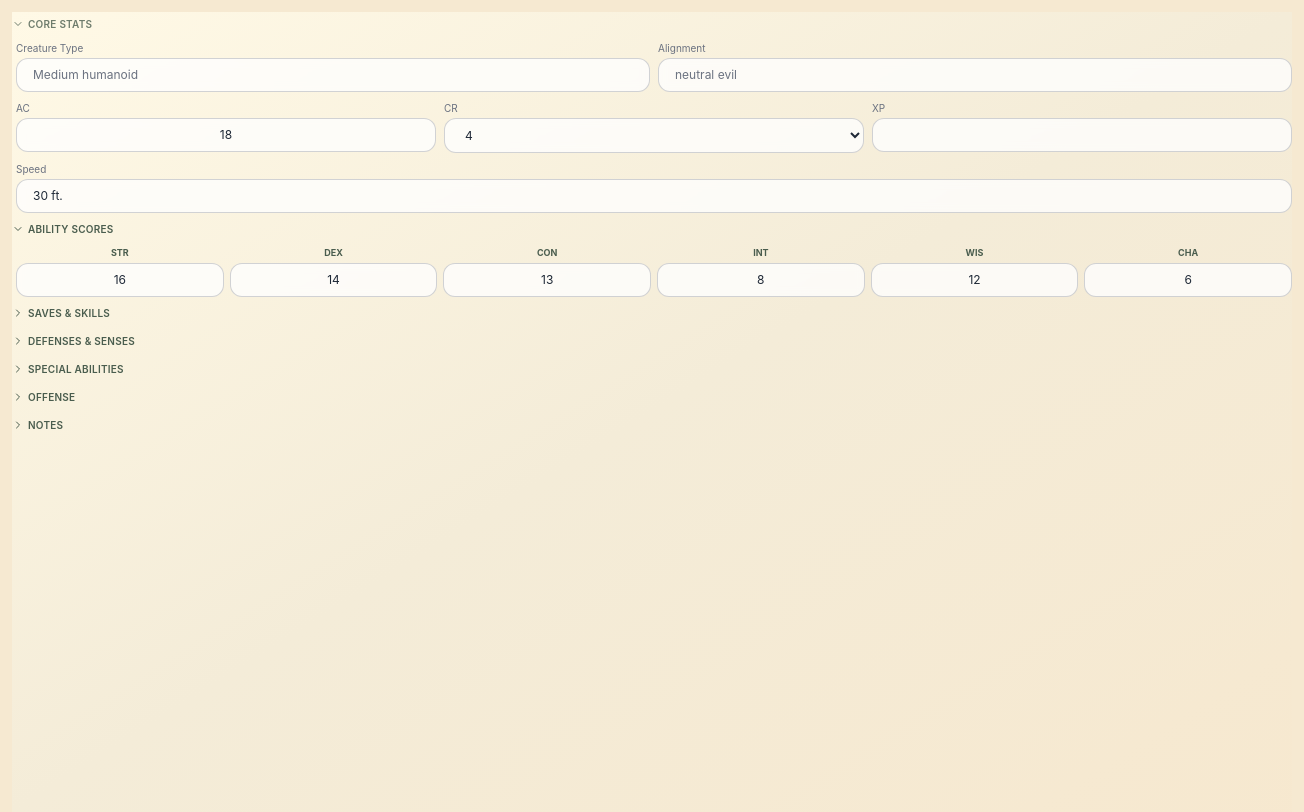
Test: PF1e NPC stat blocks › edits printed PF1 save and skill totals without 5e action sections
What coordinates should you click on to do the following:
click the button "Saves & Skills"
I would click on:
 (69, 313)
Its box is [12,301,1292,325].
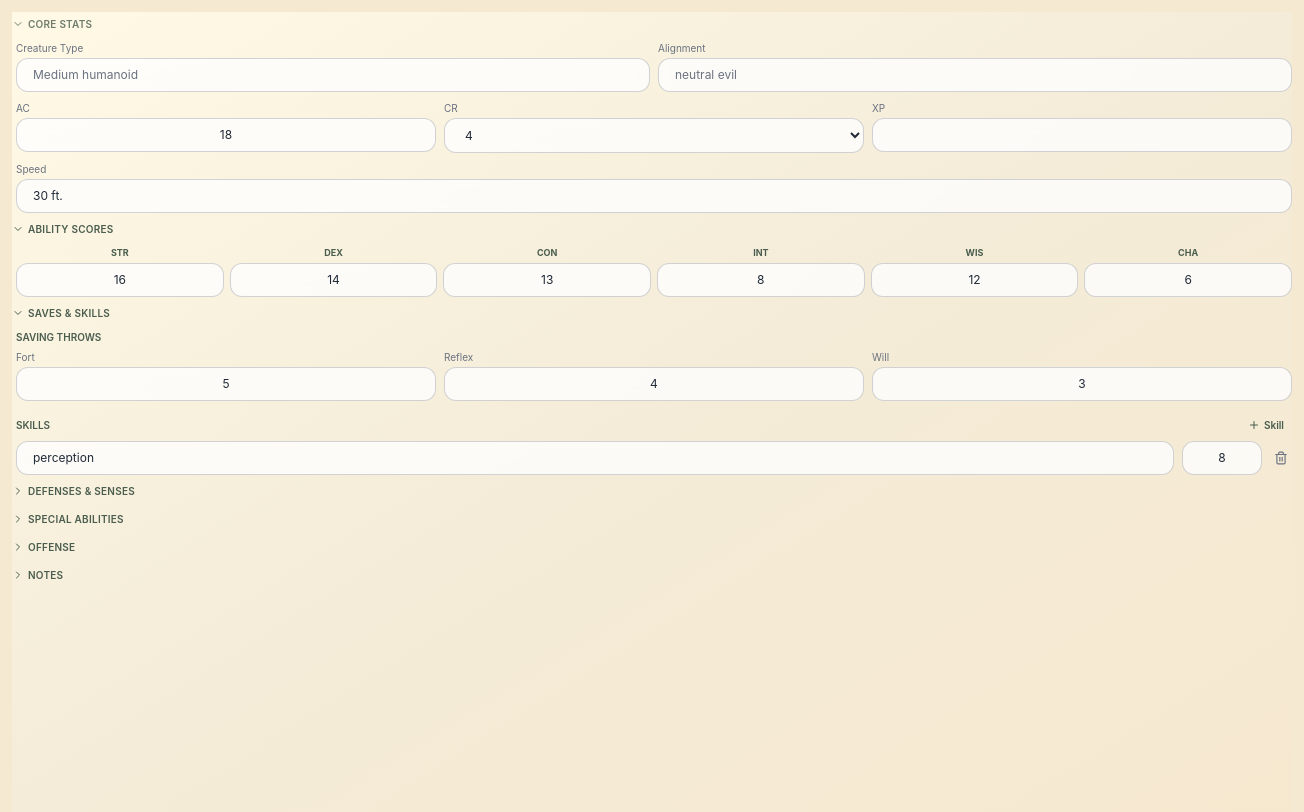
Result: the number field named "fort save bonus" holds "5" at [16,367,436,401]
Result: the number field named "reflex save bonus" holds "4" at [444,367,864,401]
